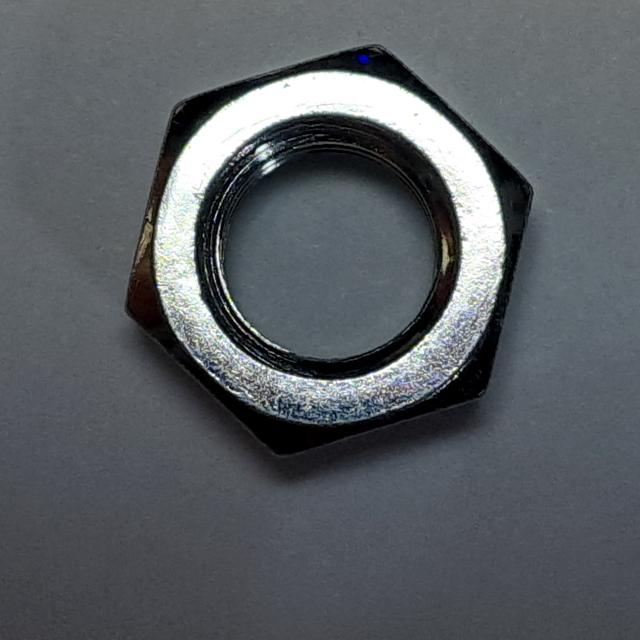Excellent: (111, 25, 547, 475)
